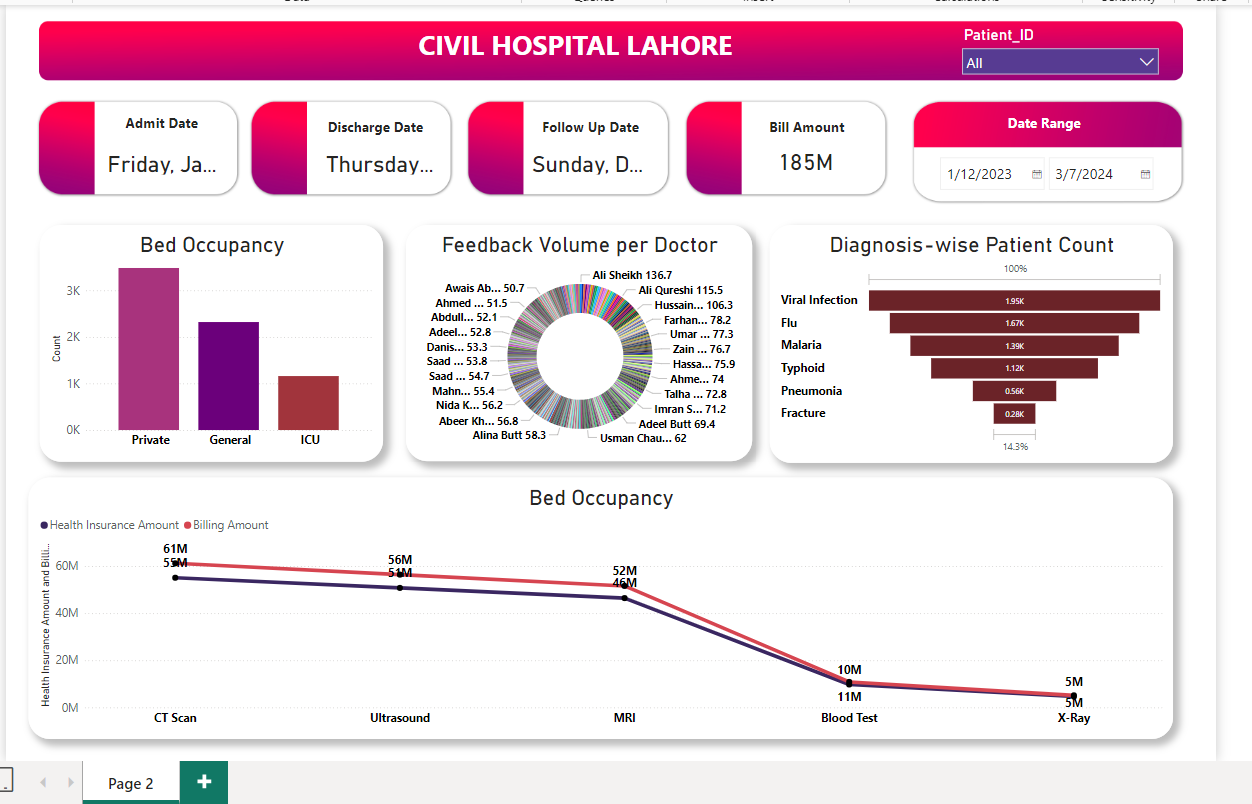

What the dashboard file says about the page in this screenshot:
{"tool":"powerbi","page":{"name":"Page 2","canvas":[1680,1050],"ordinal":0},"visuals":[{"type":"textbox","box":[279.5,24.3,1005.2,76.4],"z":0},{"type":"image","box":[2636.7,100,623.3,150],"z":1000},{"type":"slicer","fields":{"Values":["Sheet1.Patient_ID"]},"box":[2400,373.3,793.3,420],"z":2000},{"type":"card","fields":{"Values":["Min(Sheet1.Admit_Date)"]},"box":[437.6,198.8,162.9,42.8],"z":3000},{"type":"card","fields":{"Values":["Min(Sheet1.Discharge_Date)"]},"box":[129.8,198.8,172.6,42.8],"z":4000},{"type":"card","fields":{"Values":["Min(Sheet1.Followup Date)"]},"box":[724.3,198.6,167.1,42.9],"z":5000},{"type":"textbox","box":[152.9,145.7,127.1,57.1],"z":6000},{"type":"textbox","box":[437.1,151.4,151.4,37.1],"z":7000},{"type":"textbox","box":[732.9,151.4,158.6,37.1],"z":8000},{"type":"textbox","box":[1035.7,151.4,151.4,37.1],"z":9000},{"type":"card","fields":{"Values":["Sum(Sheet1.Billing Amount)"]},"box":[1031.4,194.3,158.6,42.9],"z":10000},{"type":"columnChart","title":"Bed Occupancy","fields":{"Category":["Sheet1.Bed_Occupancy"],"Y":["CountNonNull(Sheet1.Bed_Occupancy)"]},"box":[47.1,305.7,477.1,328.6],"z":15000},{"type":"donutChart","title":"Feedback Volume per Doctor","fields":{"Category":["Sheet1.Doctor"],"Y":["Sum(Sheet1.Feedback)"]},"box":[555.6,305.6,480.9,328.1],"z":16000},{"type":"funnel","title":"Diagnosis-wise Patient Count","fields":{"Category":["Sheet1.Diagnosis"],"Y":["CountNonNull(Sheet1.Diagnosis)"]},"box":[1060,305.7,560,330],"z":17000},{"type":"lineChart","title":"Bed Occupancy","fields":{"Y":["Sum(Sheet1.Health Insurance Amount)","Sum(Sheet1.Billing Amount)"],"Category":["Sheet1.Test"]},"box":[31.1,656.3,1589.5,363.3],"z":19000},{"type":"slicer","fields":{"Values":["Sheet1.Admit_Date"]},"box":[1284.3,201.2,360.6,68.9],"z":20000},{"type":"slicer","fields":{"Values":["Sheet1.Patient_ID"]},"box":[1317.1,24.3,292.9,82.9],"z":21000},{"type":"textbox","box":[1365.7,145.7,151.4,37.1],"z":22000}]}

Visuals, with their boxes on the page's 1680x1050 design canvas (x1, y1, x2, y2). These are canvas units, not pixel positions in the 1252x804 screenshot, which may show the page scaled, cropped or inside an application window:
textbox: box=[280, 24, 1285, 101]
image: box=[2637, 100, 3260, 250]
slicer - Sheet1.Patient_ID: box=[2400, 373, 3193, 793]
card - Min(Sheet1.Admit_Date): box=[438, 199, 600, 242]
card - Min(Sheet1.Discharge_Date): box=[130, 199, 302, 242]
card - Min(Sheet1.Followup Date): box=[724, 199, 891, 242]
textbox: box=[153, 146, 280, 203]
textbox: box=[437, 151, 588, 188]
textbox: box=[733, 151, 892, 188]
textbox: box=[1036, 151, 1187, 188]
card - Sum(Sheet1.Billing Amount): box=[1031, 194, 1190, 237]
"Bed Occupancy" columnChart: box=[47, 306, 524, 634]
"Feedback Volume per Doctor" donutChart: box=[556, 306, 1036, 634]
"Diagnosis-wise Patient Count" funnel: box=[1060, 306, 1620, 636]
"Bed Occupancy" lineChart: box=[31, 656, 1621, 1020]
slicer - Sheet1.Admit_Date: box=[1284, 201, 1645, 270]
slicer - Sheet1.Patient_ID: box=[1317, 24, 1610, 107]
textbox: box=[1366, 146, 1517, 183]
